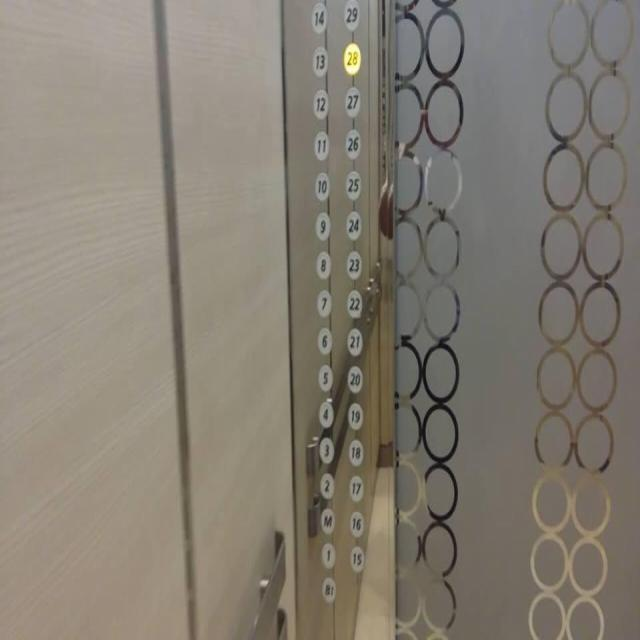1: (320, 538, 336, 571)
10: (312, 169, 331, 204)
11: (311, 130, 330, 162)
12: (312, 88, 329, 121)
13: (311, 44, 329, 77)
14: (309, 0, 328, 36)
15: (348, 544, 365, 575)
16: (348, 508, 365, 540)
17: (347, 472, 364, 504)
18: (347, 436, 362, 469)
19: (346, 400, 364, 432)
2: (318, 471, 335, 500)
20: (346, 363, 363, 396)
21: (345, 325, 363, 358)
22: (344, 286, 362, 320)
23: (344, 246, 362, 281)
24: (344, 208, 362, 242)
25: (344, 167, 362, 203)
26: (343, 126, 361, 162)
27: (342, 84, 360, 120)
28: (342, 40, 362, 77)
29: (341, 0, 361, 32)
3: (318, 435, 336, 466)
4: (316, 397, 334, 430)
5: (316, 363, 333, 392)
6: (315, 324, 333, 356)
7: (315, 287, 332, 316)
8: (313, 249, 332, 281)
9: (312, 210, 330, 242)
B1: (320, 574, 338, 606)
M: (320, 505, 336, 534)
